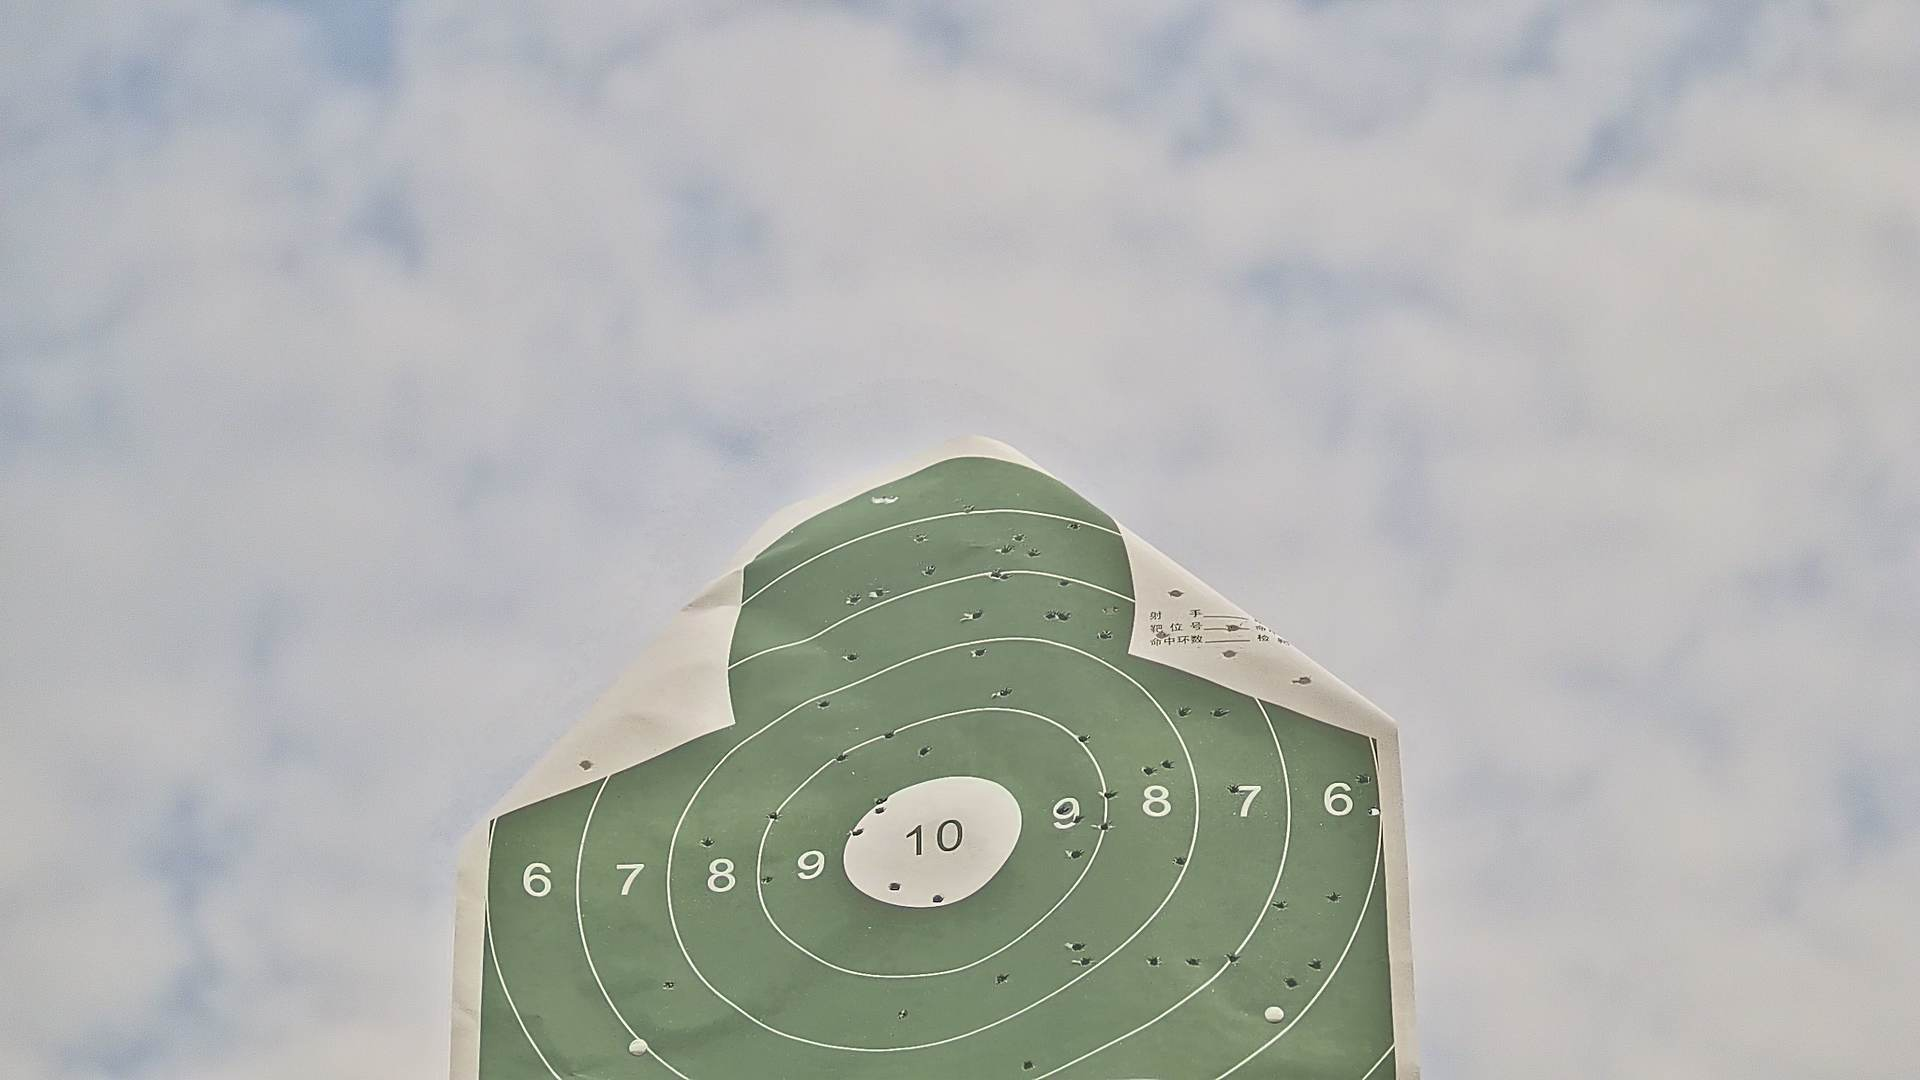hole: (1294, 675, 1313, 687), (579, 760, 595, 771), (1284, 976, 1300, 986), (1059, 578, 1072, 589), (873, 585, 886, 597), (1358, 773, 1371, 785), (897, 1007, 909, 1021), (1058, 609, 1068, 624), (1222, 649, 1237, 659), (963, 504, 975, 516), (872, 495, 884, 506), (975, 647, 986, 659), (889, 880, 901, 891), (767, 810, 779, 822), (914, 534, 927, 545), (845, 593, 858, 604), (1077, 733, 1091, 744), (1369, 804, 1379, 818), (1328, 891, 1341, 902), (1156, 629, 1170, 640), (1225, 624, 1240, 633), (990, 568, 1001, 580), (1178, 705, 1189, 716), (1072, 814, 1084, 824), (1311, 959, 1321, 971), (1071, 942, 1083, 952), (1170, 589, 1182, 600), (1069, 849, 1083, 858), (1000, 687, 1010, 698), (1229, 783, 1240, 794), (1175, 856, 1185, 866), (836, 752, 847, 762), (1011, 533, 1023, 542), (1143, 764, 1153, 775), (1274, 899, 1286, 909), (1228, 953, 1237, 965), (1149, 957, 1160, 967), (1081, 955, 1091, 967), (852, 827, 864, 836), (760, 876, 773, 884), (886, 495, 895, 505), (1000, 545, 1010, 554), (1044, 611, 1054, 621), (847, 651, 857, 661), (819, 700, 829, 709), (919, 746, 928, 757), (1105, 790, 1114, 800), (1188, 957, 1197, 968), (1023, 1060, 1034, 1069), (996, 973, 1006, 982), (934, 894, 943, 905), (1100, 632, 1112, 640), (971, 611, 982, 618), (924, 567, 934, 576), (1000, 572, 1009, 582), (1162, 758, 1171, 767), (1100, 823, 1110, 831), (876, 796, 886, 804), (873, 806, 884, 814), (703, 836, 711, 847), (886, 731, 894, 740), (1215, 708, 1222, 717), (1056, 804, 1064, 814), (665, 981, 674, 989), (1069, 522, 1080, 529), (1029, 549, 1035, 556)
kernel: (928, 837, 934, 845)
target: (475, 459, 1400, 1080)
ten: (843, 771, 1021, 913)
